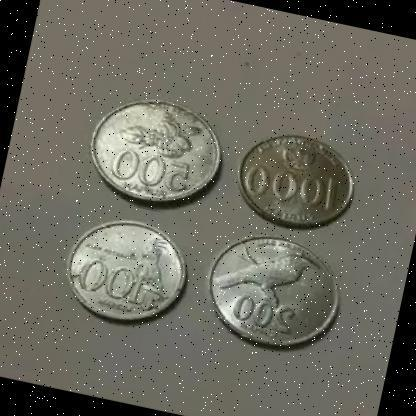coin_1000_e2010: (239, 133, 360, 229)
